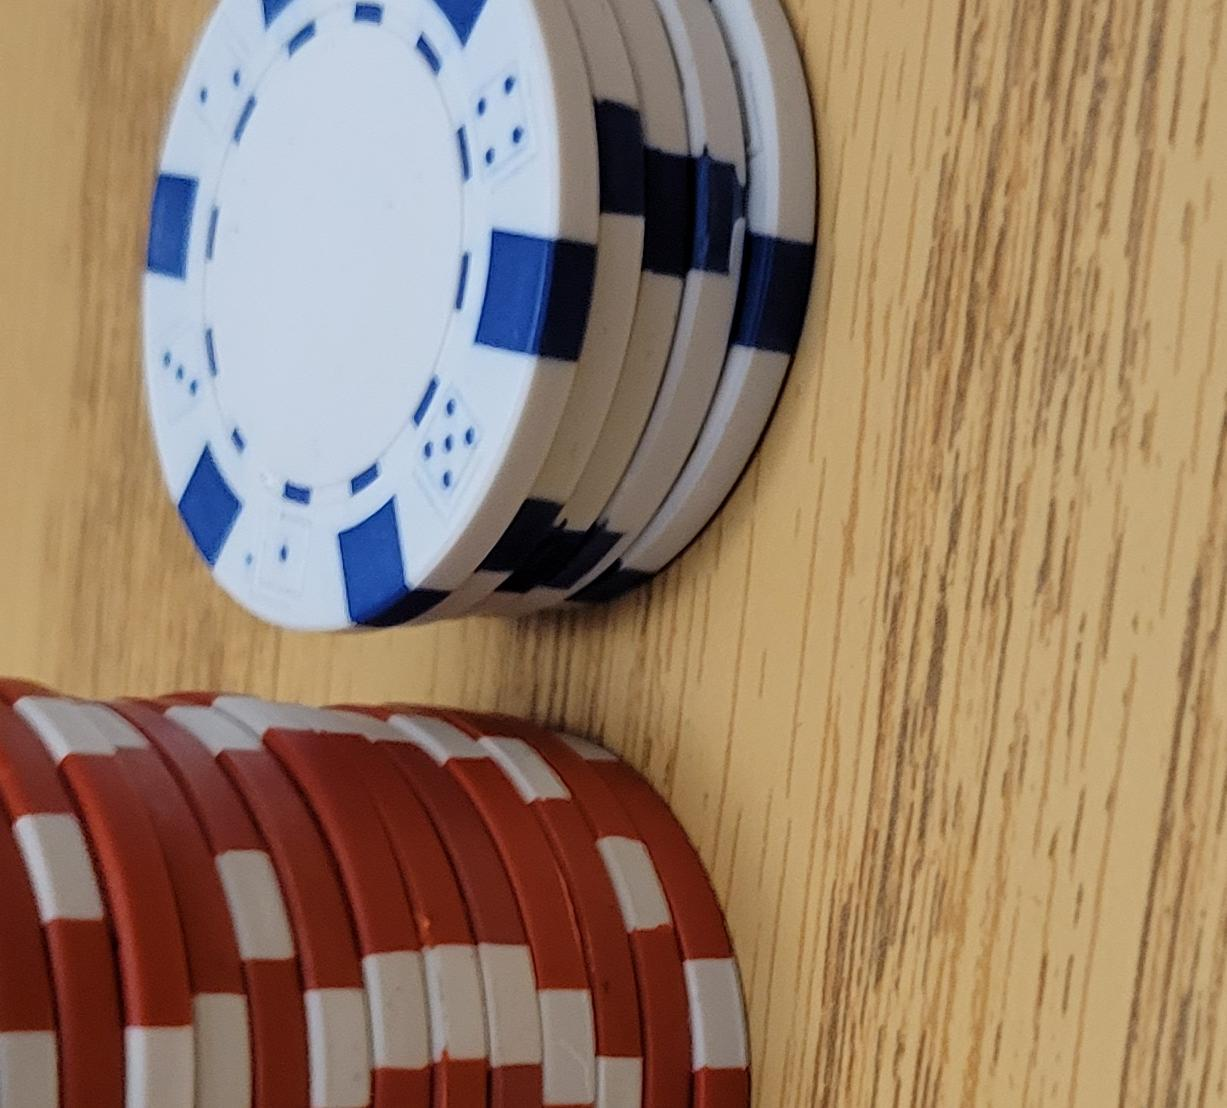Chip: (1, 166, 599, 1108)
